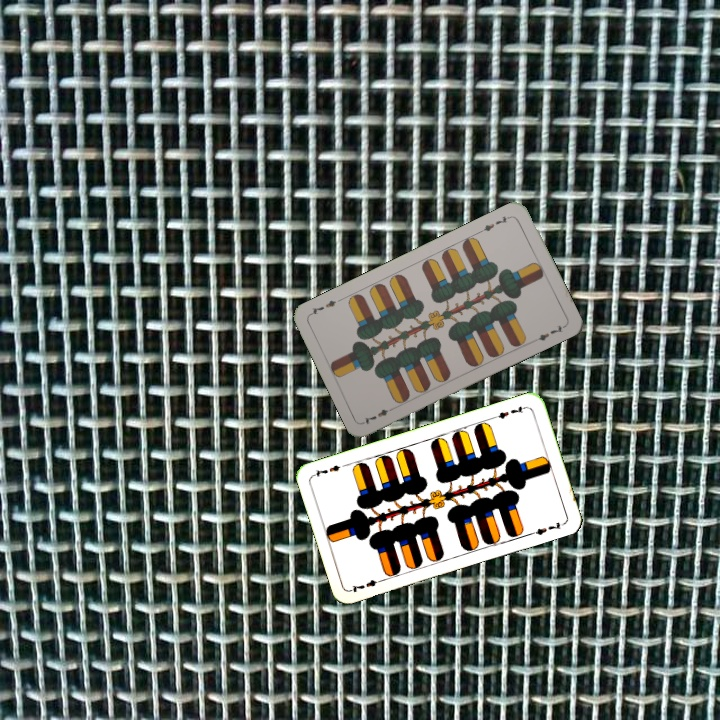E7: (476, 211, 515, 235), (359, 403, 398, 427), (347, 575, 387, 595), (490, 402, 529, 421)
